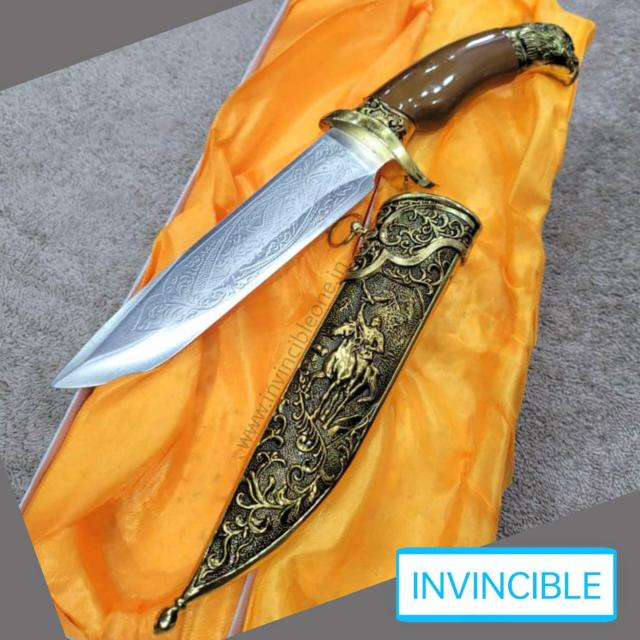Gun: (5, 28, 601, 393)
